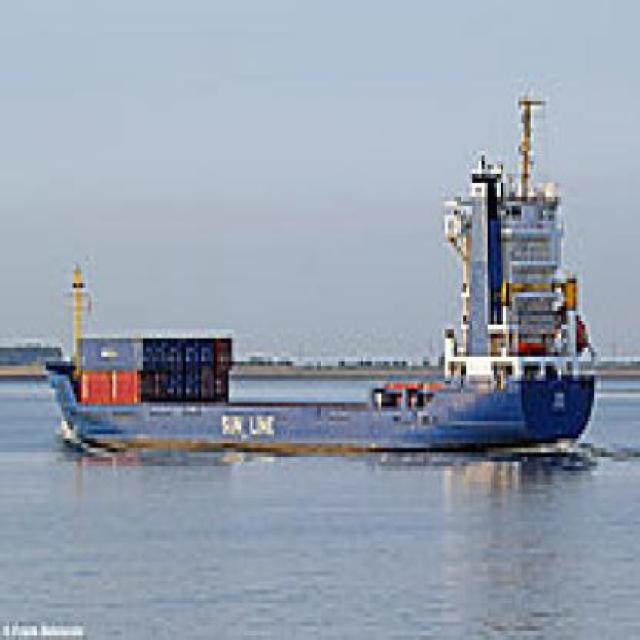container: (37, 134, 605, 463)
